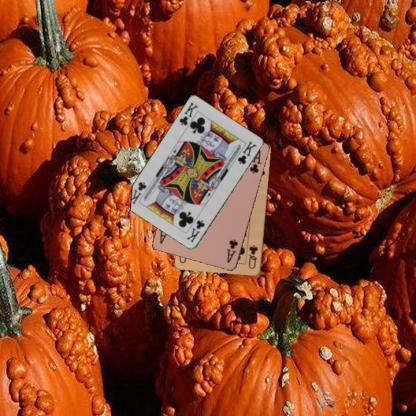Ac: (225, 237, 239, 264)
Kc: (177, 100, 199, 127), (184, 218, 206, 244)
Qc: (246, 243, 259, 270)
